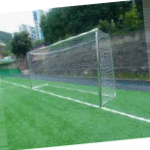goals: (26, 26, 119, 110)
